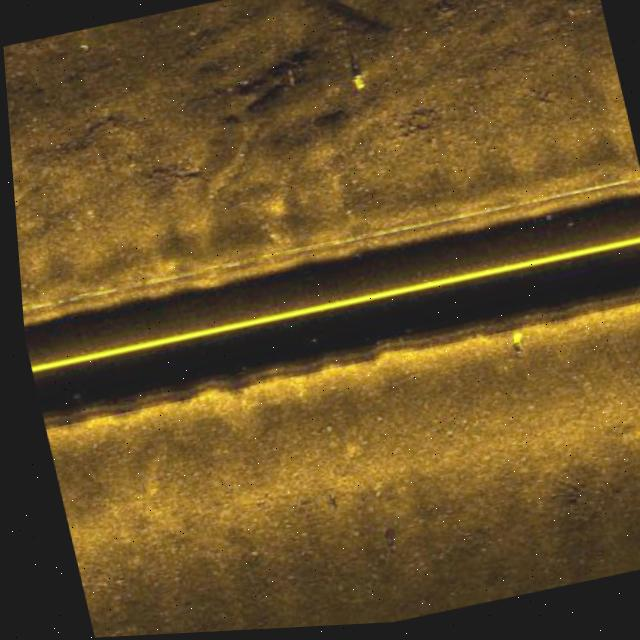mine: (342, 68, 371, 103), (502, 334, 522, 359)
